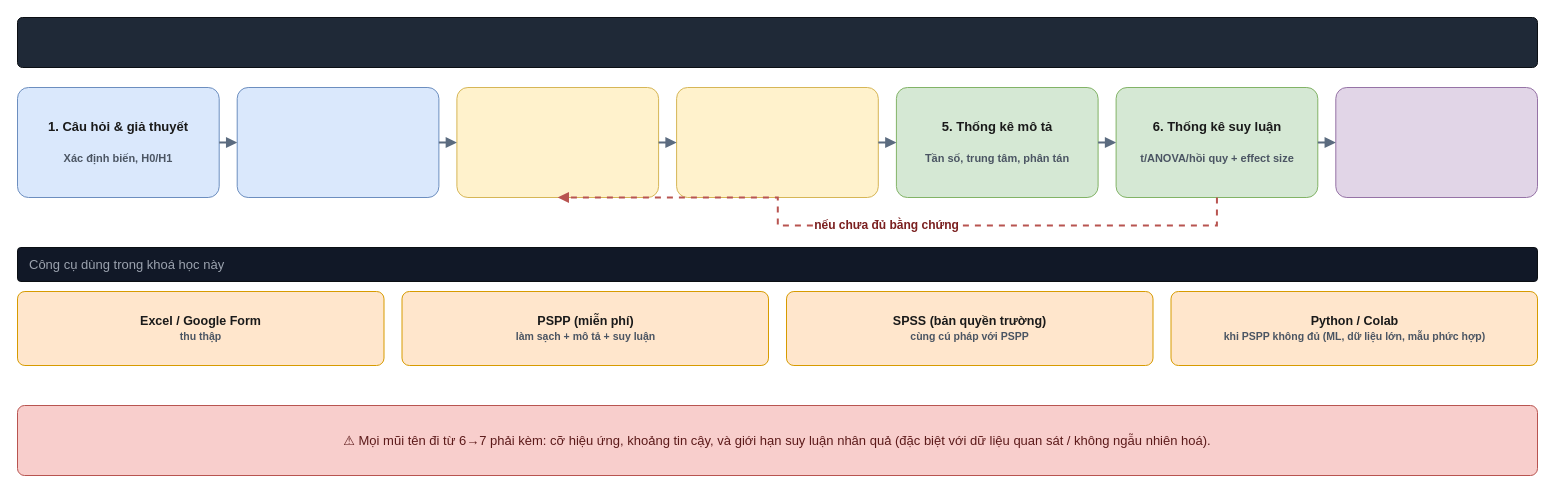
This 1555x493 diagram has some shape labels left out. The shapes that lost their labels are listed below. From the top down, each one's box as (x1, y1, x2, y2) in pixels, then its label:
(16, 16, 1538, 68): Pipeline nghiên cứu định lượng & phân tích SPSS/PSPP
(236, 86, 439, 198): 2. Thiết kế & chọn mẫu Cỡ mẫu, xác suất/phi xác suất
(456, 86, 659, 198): 3. Thu thập dữ liệu Bảng hỏi, kiểm tra, thi
(676, 86, 878, 198): 4. Làm sạch dữ liệu Ngoại lai, thiếu, mã hoá
(1335, 86, 1538, 198): 7. Báo cáo & diễn giải Không suy nhân quả vội
